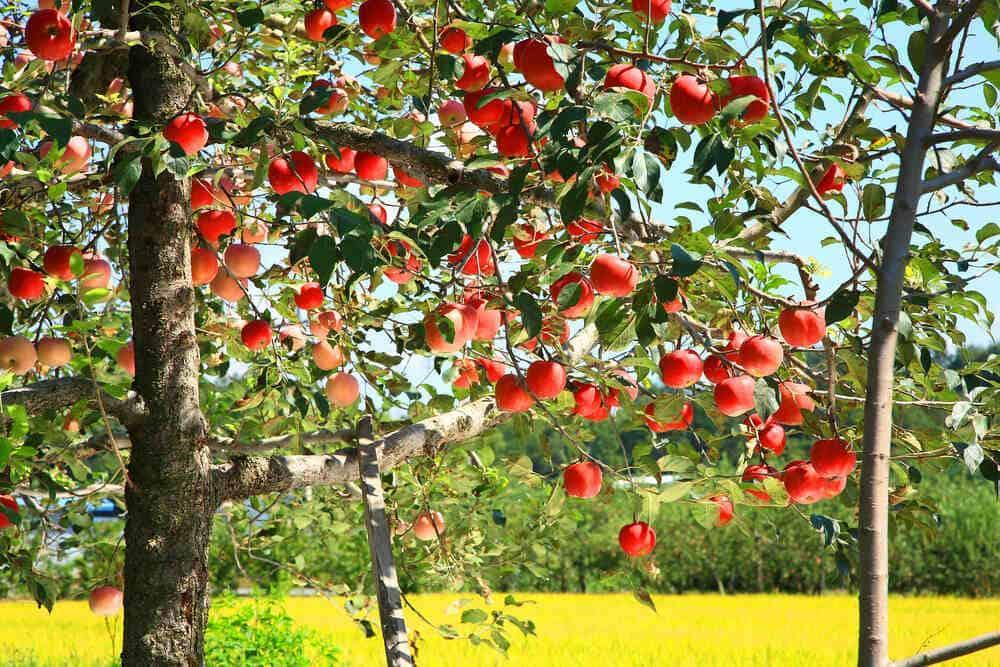apple: (507, 36, 569, 93), (24, 8, 78, 60), (669, 75, 720, 123), (722, 75, 769, 125), (590, 250, 638, 296), (600, 63, 655, 101), (773, 307, 825, 347), (659, 346, 704, 391), (331, 147, 384, 183), (737, 333, 782, 375), (784, 459, 827, 502), (547, 273, 590, 316), (164, 113, 209, 154), (268, 153, 315, 192), (712, 374, 754, 417), (493, 372, 534, 414), (777, 379, 814, 425), (450, 231, 489, 273), (525, 358, 565, 398), (561, 460, 602, 499), (193, 206, 235, 243), (811, 440, 855, 475), (428, 312, 466, 352), (465, 298, 500, 340), (319, 372, 362, 406), (43, 244, 83, 280), (3, 335, 37, 377), (359, 1, 397, 36), (466, 88, 502, 124), (7, 266, 45, 300), (497, 121, 533, 156), (36, 333, 69, 371), (226, 242, 261, 276), (189, 247, 219, 286), (313, 335, 344, 372), (60, 134, 90, 171), (621, 522, 655, 554), (353, 150, 386, 180), (304, 10, 337, 39), (88, 586, 121, 615), (240, 317, 268, 351), (814, 164, 844, 195), (292, 282, 325, 310), (631, 2, 672, 23), (325, 147, 356, 174), (1, 494, 21, 524)
